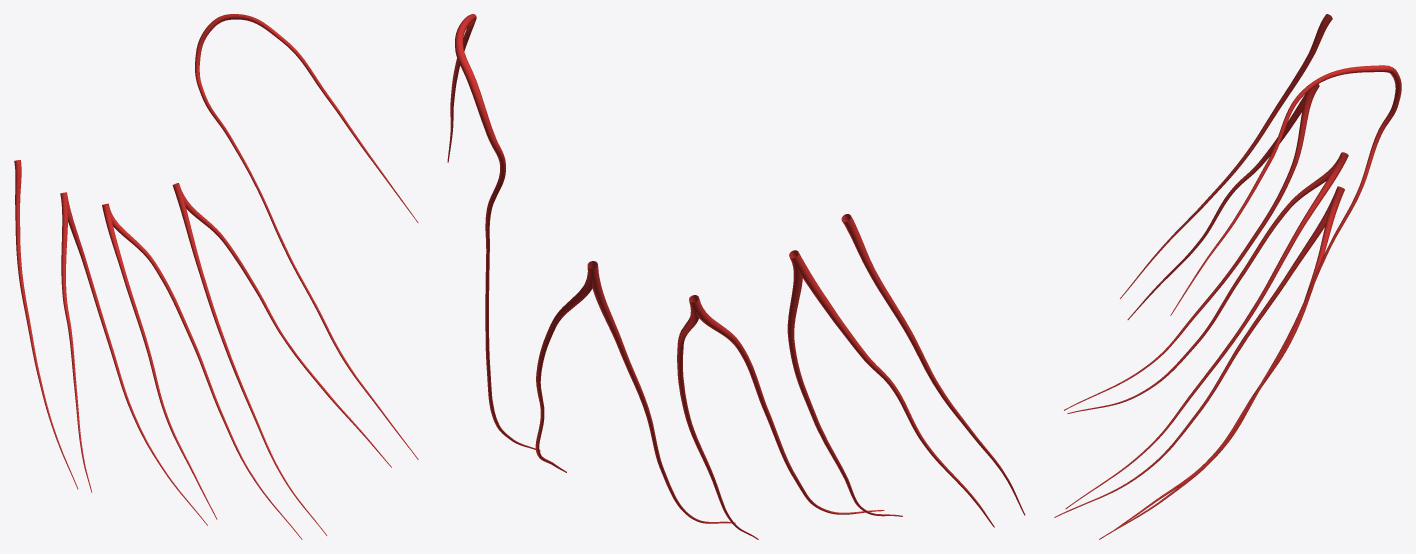
The model's file is circulatorio-dorsal-digital-arteries-of-hand-l.glb.
The picture shows the model from 3 angles, left to right: view 1: azimuth 30°, elevation 25°; view 2: azimuth 150°, elevation 25°; view 3: azimuth 270°, elevation 25°; orthographic projection. The views are drawn at different scales.
Parts seen in each view (by area): view 1: Dorsal digital arteries of hand.l; view 2: Dorsal digital arteries of hand.l; view 3: Dorsal digital arteries of hand.l.
Boxes of the visible parts, <box> form: Dorsal digital arteries of hand.l: <box>14,14,418,539</box>; Dorsal digital arteries of hand.l: <box>447,14,1025,539</box>; Dorsal digital arteries of hand.l: <box>1054,14,1401,539</box>.
Bounding box in the file's own units: 0.1029 × 0.111 × 0.0723.
